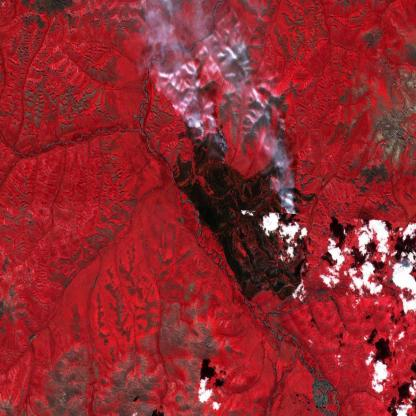fire: (177, 109, 288, 169)
